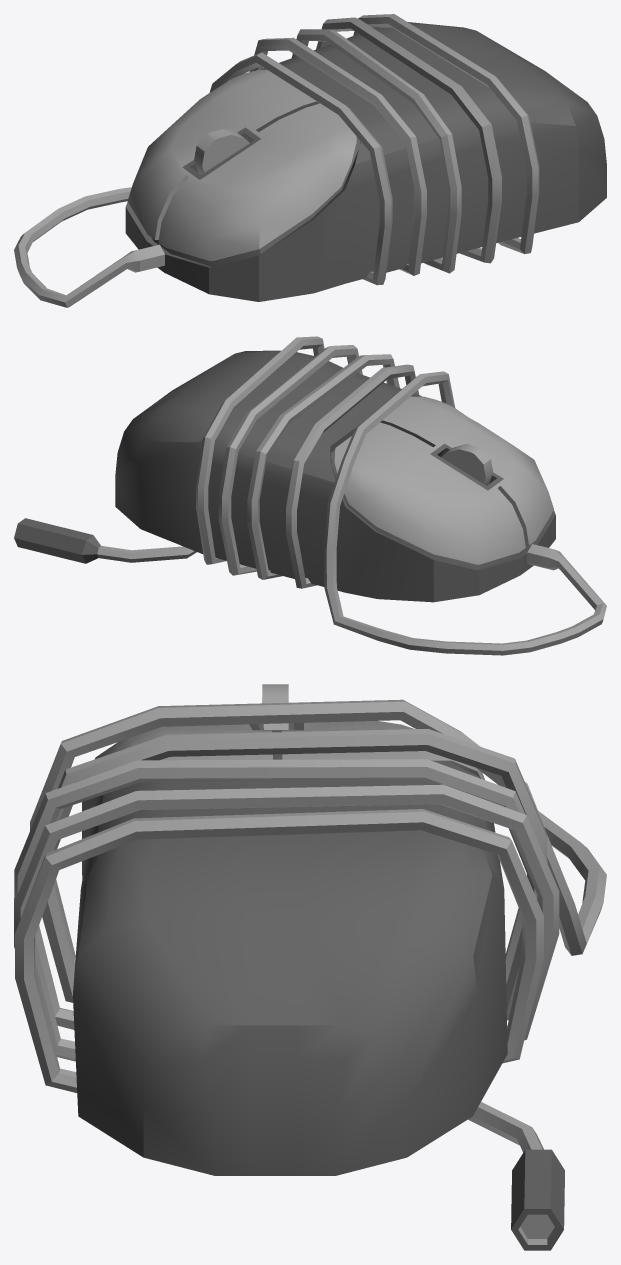
The model's file is Computer_Mouse_01.glb.
3 renders of one model, top to bottom at view 1: azimuth 30°, elevation 25°; view 2: azimuth 150°, elevation 25°; view 3: azimuth 270°, elevation 25°, orthographic. The views are drawn at different scales.
Visible parts, largest first — view 1: Mesh_Computer_Mouse_01; view 2: Mesh_Computer_Mouse_01; view 3: Mesh_Computer_Mouse_01.
Part boxes in pixels (<box>): Mesh_Computer_Mouse_01: <box>14,14,606,307</box>; Mesh_Computer_Mouse_01: <box>14,336,606,655</box>; Mesh_Computer_Mouse_01: <box>14,684,606,1250</box>.
Size of the model in its own units: 0.1726 by 0.0514 by 0.0952.
Materials: 1 (1 with a texture image).
